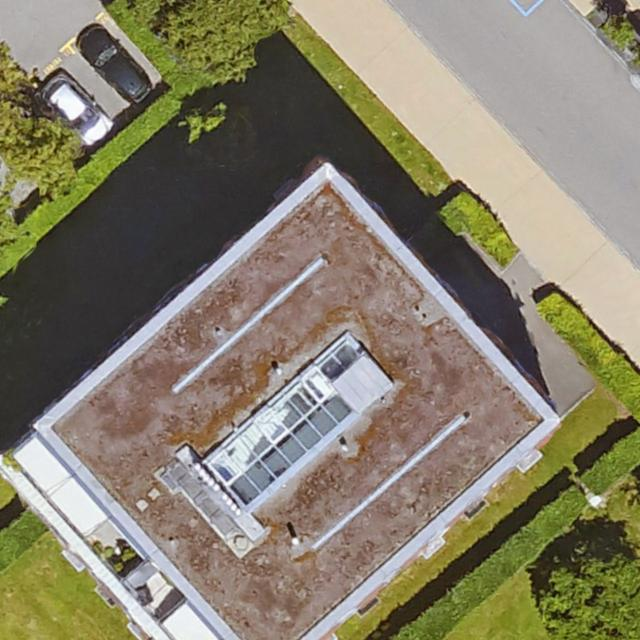tree: (0, 45, 81, 189), (150, 0, 289, 74), (180, 102, 282, 200), (540, 540, 640, 639)
